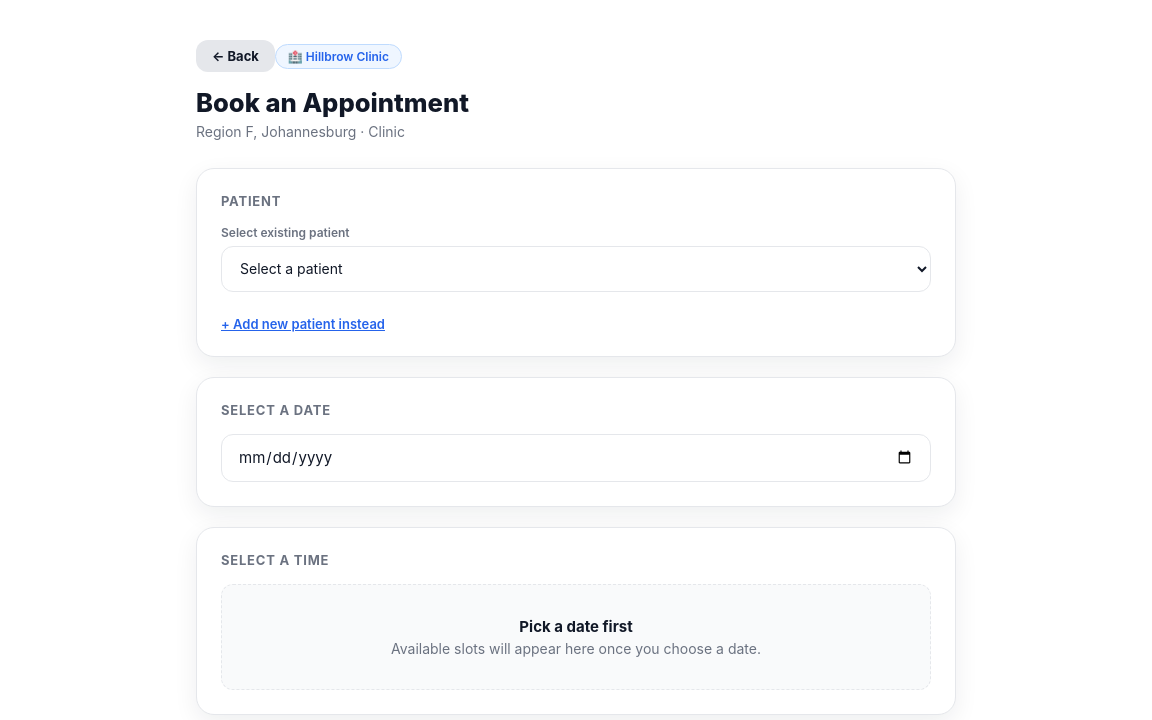
it: BookingPage › closes confirmation popup with dialog cancel button
Select "Jane Doe (Patient)" in the dropdown labelled "Select existing patient" at [576, 269], box top-left (221, 246), bottom-right (931, 292)
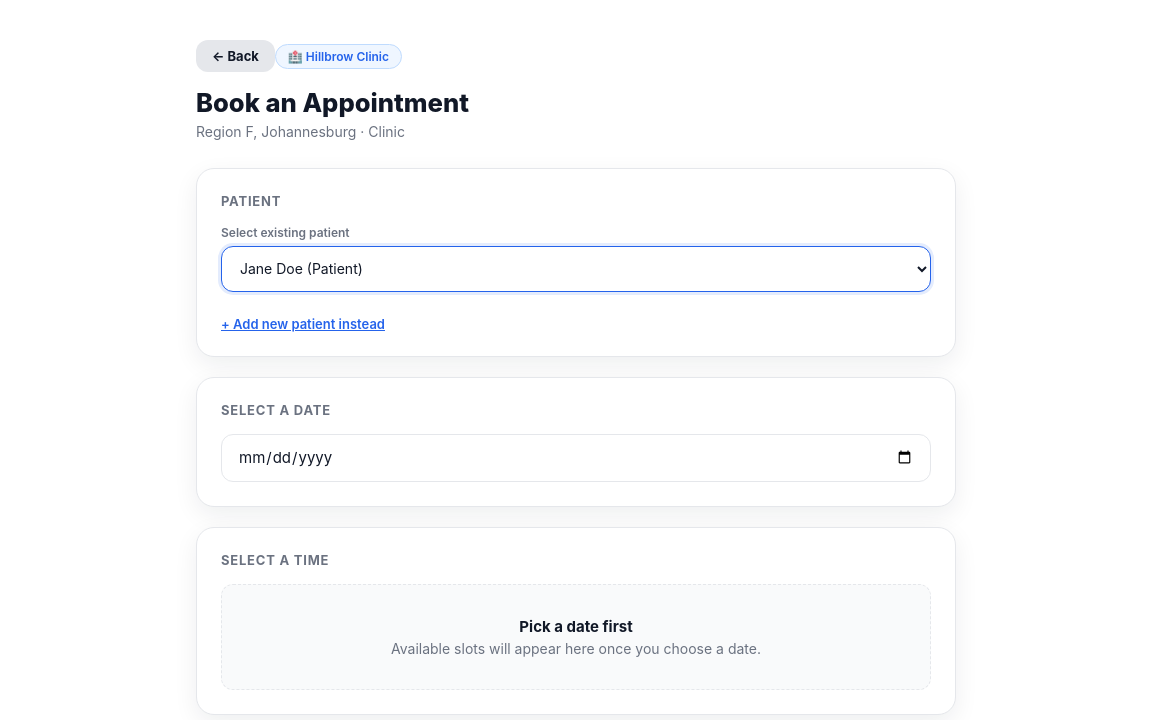
Type "2099-05-10" into the date field named "Appointment date" at [576, 458], box top-left (221, 434), bottom-right (931, 482)
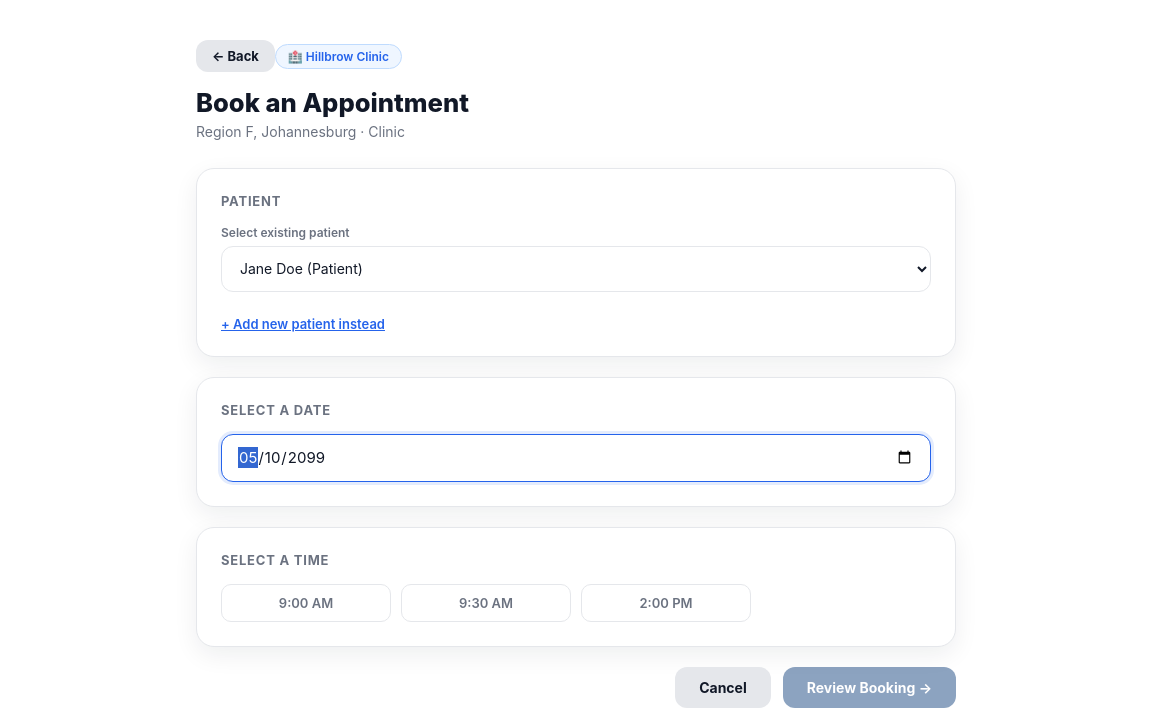
Click the button "9:00 AM" at [306, 603], box top-left (221, 584), bottom-right (391, 622)
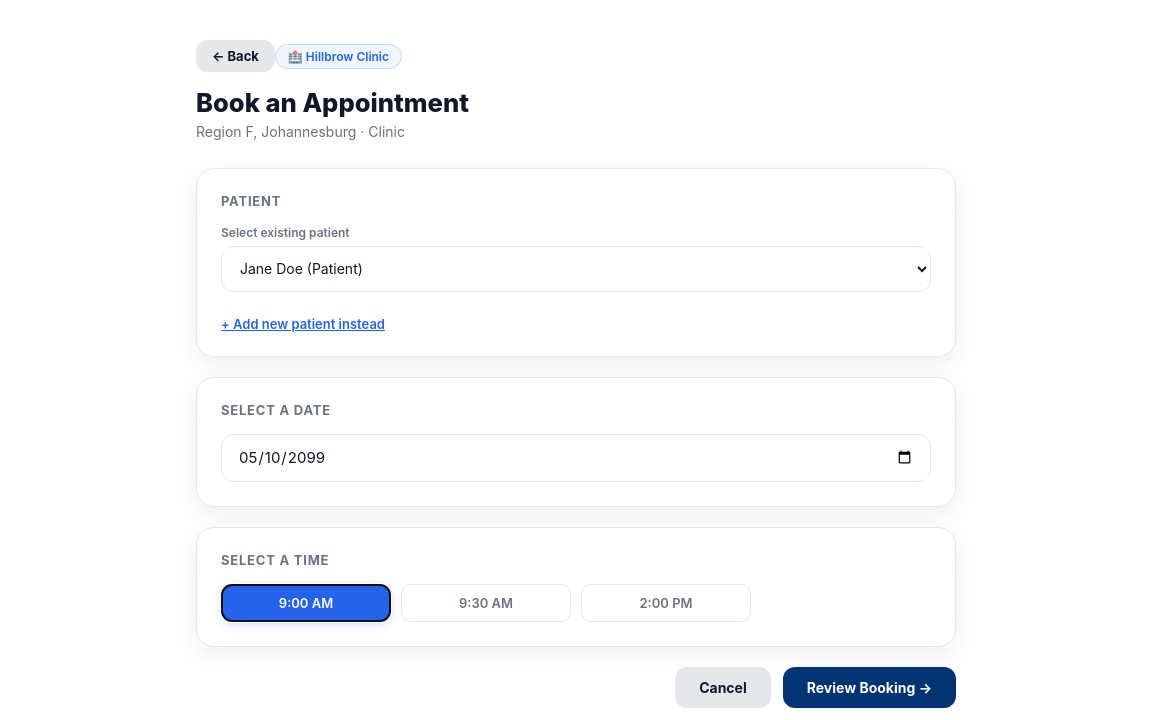
Click the button "Review Booking →" at [869, 687], box top-left (783, 667), bottom-right (956, 708)
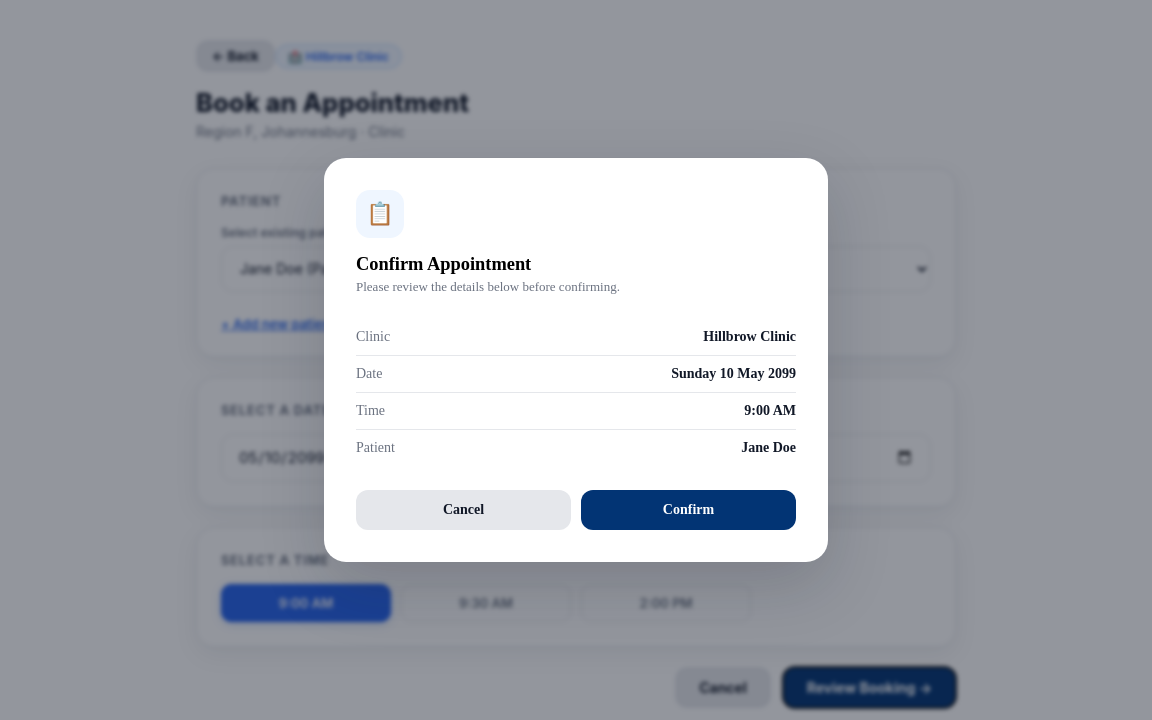
Click the button "Cancel" at [464, 510], box top-left (356, 490), bottom-right (571, 530)
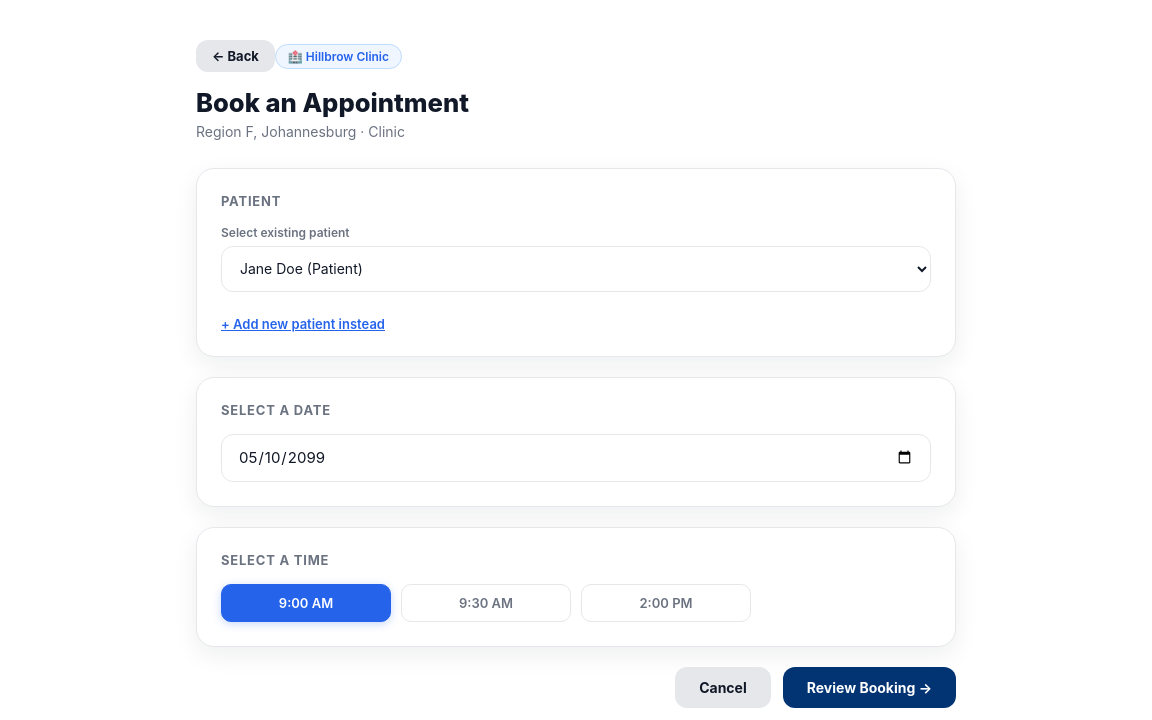
Check: the dialog is gone
